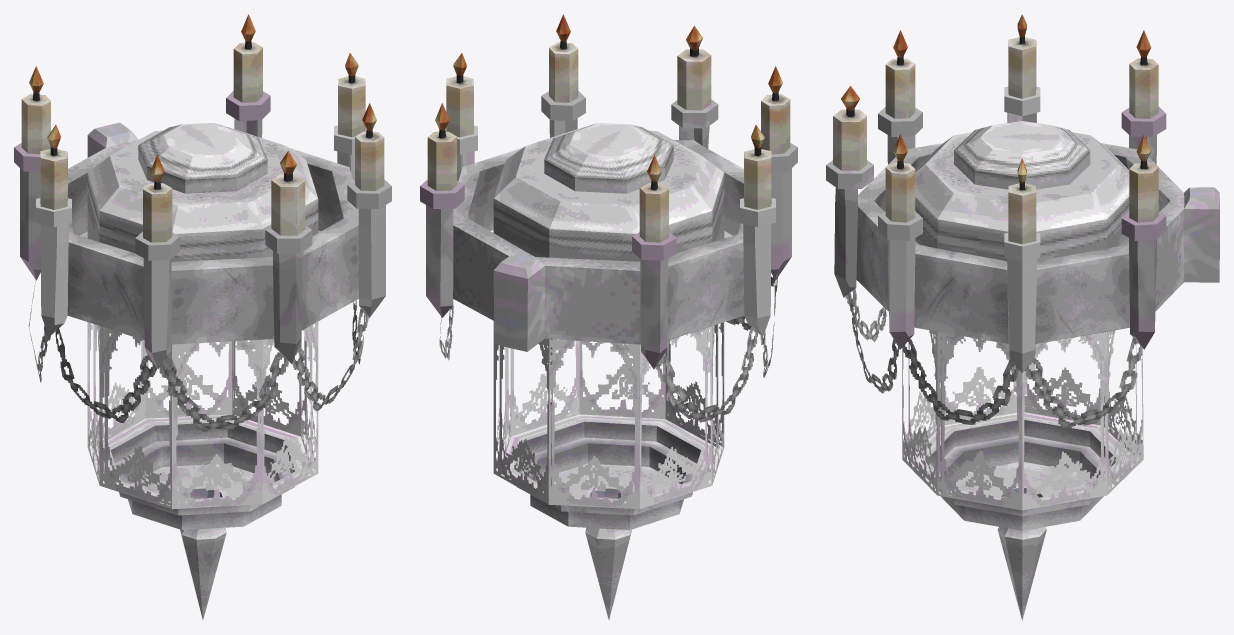
File: lampfixed2.0.fbx
The picture shows the model from 3 angles, left to right: view 1: azimuth 30°, elevation 25°; view 2: azimuth 150°, elevation 25°; view 3: azimuth 270°, elevation 25°; orthographic projection.
Parts seen in each view (by area): view 1: Cylinder.001, Cylinder.002, Plane.002; view 2: Cylinder.001, Cylinder.002, Plane.002; view 3: Cylinder.001, Cylinder.002, Plane.002.
Part boxes in pixels (bbox=[...]): Cylinder.001: bbox=[14, 14, 391, 619]; Cylinder.002: bbox=[87, 321, 318, 509]; Plane.002: bbox=[28, 276, 368, 431]; Cylinder.001: bbox=[420, 14, 797, 619]; Cylinder.002: bbox=[493, 321, 724, 509]; Plane.002: bbox=[439, 272, 777, 422]; Cylinder.001: bbox=[826, 14, 1219, 620]; Cylinder.002: bbox=[902, 330, 1143, 510]; Plane.002: bbox=[845, 288, 1142, 429].
Size of the model in its own units: 61.95 by 95.22 by 63.05.
Materials: 2 (2 with a texture image).
